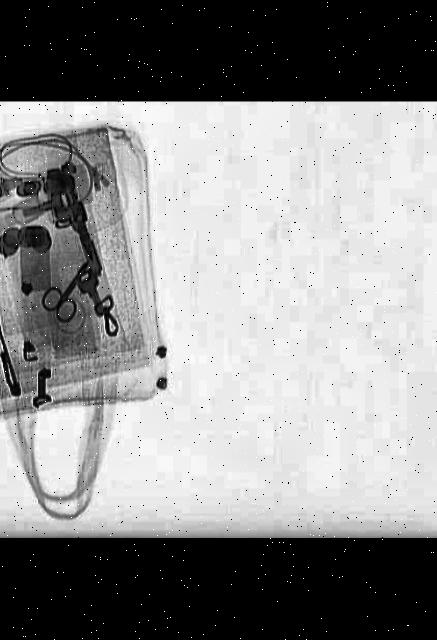Scissors: (35, 257, 106, 326)
